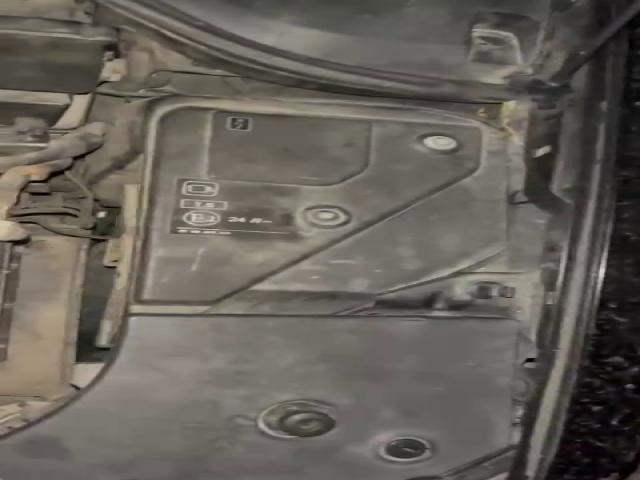fuse_box: (87, 95, 502, 317)
